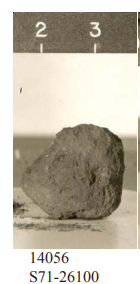Breccia: (4, 86, 110, 234)
